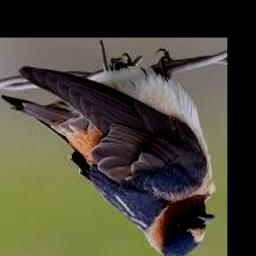Swallow: (1, 64, 216, 256)
